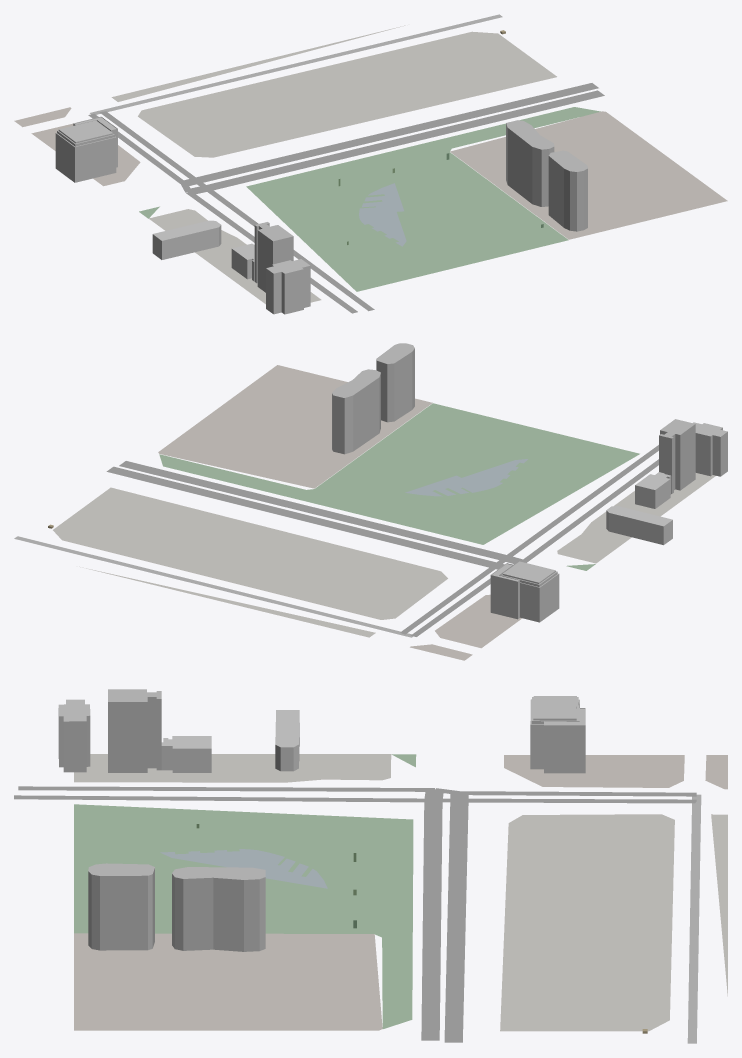
The picture shows the model from 3 angles, top to bottom: view 1: azimuth 30°, elevation 25°; view 2: azimuth 150°, elevation 25°; view 3: azimuth 270°, elevation 25°; orthographic projection. The views are drawn at different scales.
Size of the model in its own units: 559 by 64.04 by 546.
